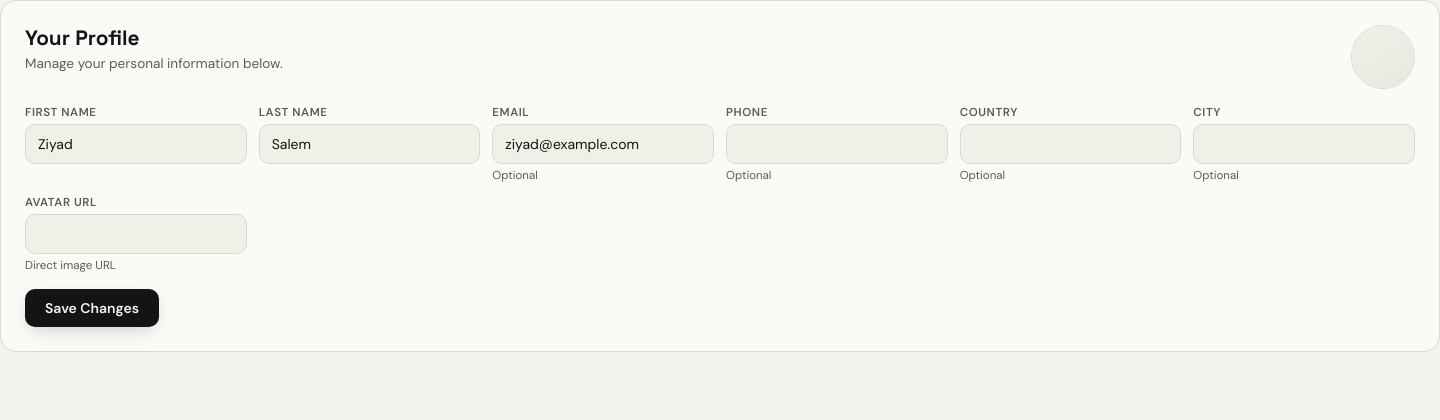
Test: ProfileDetailsCard › surfaces the dedicated message on 409 email conflict
Click the button "Save Changes": (92, 308) [25,289,159,327]
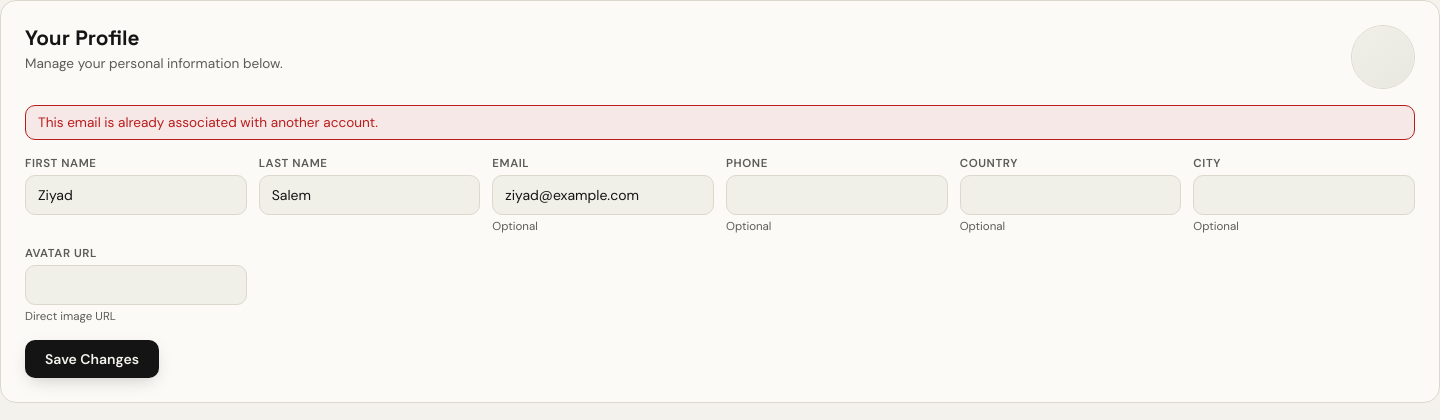
Check: the text "This email is already associated with another account." is shown, box [25,105,1415,140]
